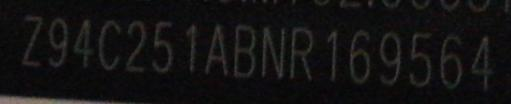letter: (468, 33, 499, 92), (407, 27, 435, 90), (258, 23, 289, 79), (438, 29, 466, 91), (201, 20, 231, 77), (287, 23, 316, 81), (230, 23, 259, 79), (149, 20, 177, 77), (347, 26, 374, 84), (376, 28, 403, 86), (124, 18, 150, 76), (19, 13, 45, 70), (96, 17, 123, 71), (70, 17, 97, 70), (45, 16, 69, 71), (183, 21, 200, 75), (324, 27, 340, 83)
